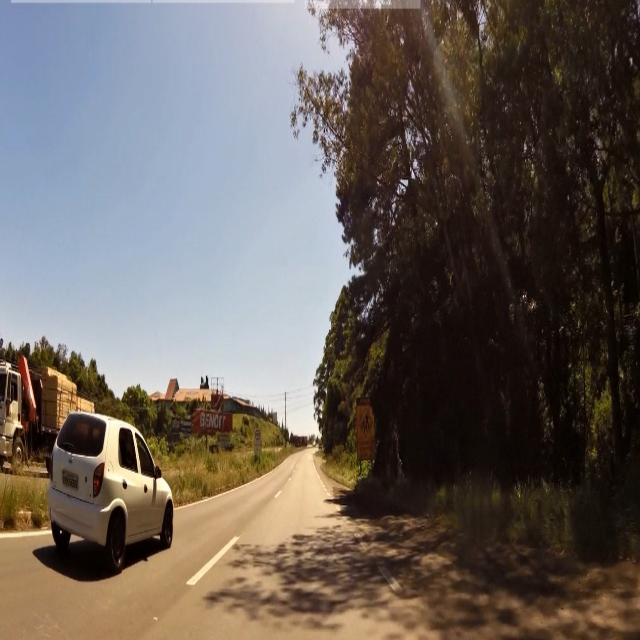A-33b: (358, 407, 374, 439)
